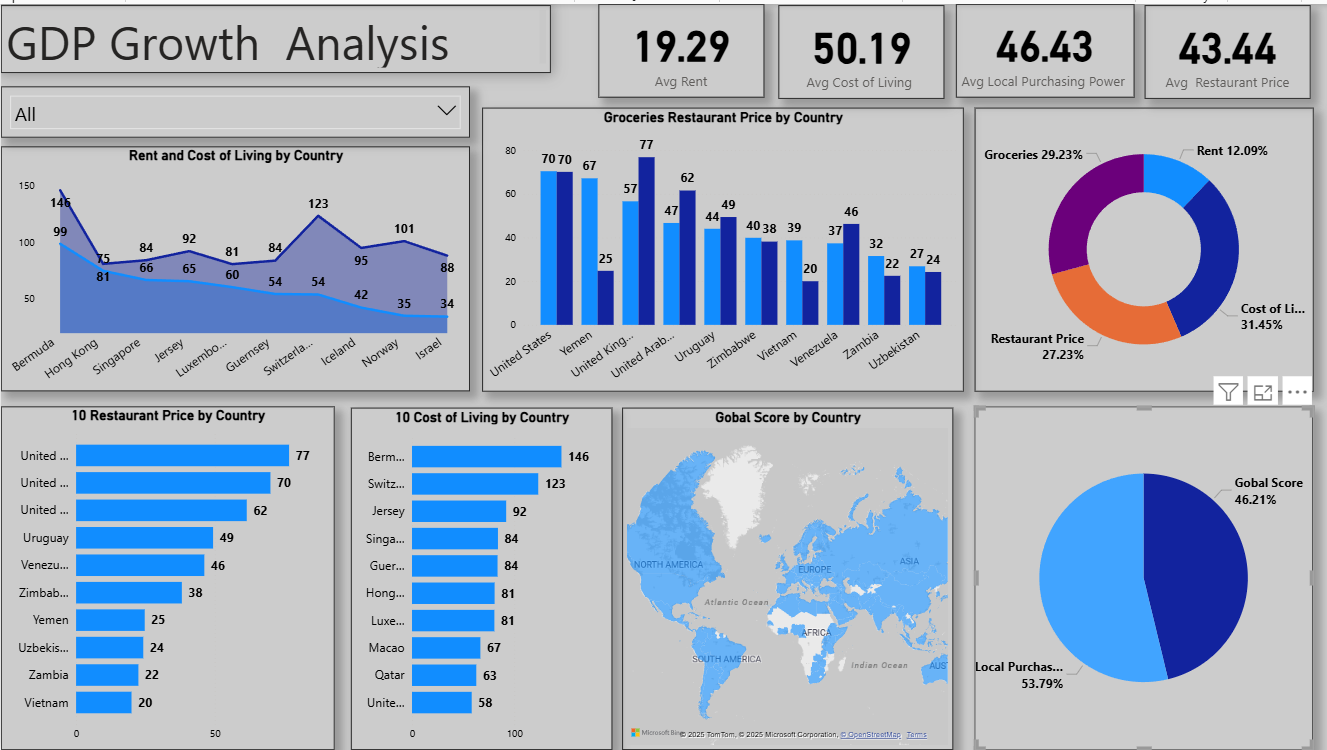

What the dashboard file says about the page in this screenshot:
{"tool":"powerbi","page":{"name":"Page 1","canvas":[1600,900],"ordinal":0},"visuals":[{"type":"barChart","title":"10 Restaurant Price by Country","fields":{"Category":["Cost_of_Living_Index_2022.Country"],"Y":["Sum(Cost_of_Living_Index_2022.Restaurant Price Index)"]},"box":[0,486.1,402,414.2],"z":0},{"type":"areaChart","title":"Rent and Cost of Living by Country","fields":{"Y":["Sum(Cost_of_Living_Index_2022.Rent Index)","Sum(Cost_of_Living_Index_2022.Cost of Living Index)"],"Category":["Cost_of_Living_Index_2022.Country"]},"box":[0,171.9,565.5,295.6],"z":1000},{"type":"clusteredColumnChart","title":"Groceries   Restaurant Price  by Country","fields":{"Y":["Avg(Cost_of_Living_Index_2022.Groceries Index)","Avg(Cost_of_Living_Index_2022.Restaurant Price Index)"],"Category":["Cost_of_Living_Index_2022.Country"]},"box":[580.6,125.2,580.6,342.3],"z":2000},{"type":"barChart","title":"10 Cost of Living by Country","fields":{"Category":["Cost_of_Living_Index_2022.Country"],"Y":["Sum(Cost_of_Living_Index_2022.Cost of Living Index)"]},"box":[421.9,487.6,314.9,412.7],"z":3000},{"type":"donutChart","fields":{"Y":["Sum(Cost_of_Living_Index_2022.Rent Index)","Sum(Cost_of_Living_Index_2022.Cost of Living Index)","Sum(Cost_of_Living_Index_2022.Restaurant Price Index)","Sum(Cost_of_Living_Index_2022.Groceries Index)"]},"box":[1174.8,125.2,408.7,342.3],"z":4000},{"type":"pieChart","fields":{"Y":["Sum(Cost_of_Living_Index_2022.Gobal Score)","Sum(Cost_of_Living_Index_2022.Local Purchasing Power Index)"]},"box":[1175.4,486.1,408.1,414.2],"z":5000},{"type":"filledMap","title":"Gobal Score by Country","fields":{"Category":["Cost_of_Living_Index_2022.Country"]},"box":[749,487.6,398.9,412.7],"z":6000},{"type":"card","fields":{"Values":["Avg(Cost_of_Living_Index_2022.Rent Index)"]},"box":[721.5,0,200.2,113.1],"z":7000},{"type":"card","fields":{"Values":["Avg(Cost_of_Living_Index_2022.Cost of Living Index)"]},"box":[938.5,1.5,200.2,113.1],"z":8000},{"type":"card","fields":{"Values":["Avg(Cost_of_Living_Index_2022.Local Purchasing Power Index)"]},"box":[1152.5,0,215.5,113.1],"z":9000},{"type":"card","fields":{"Values":["Avg(Cost_of_Living_Index_2022.Restaurant Price Index)"]},"box":[1380.3,1.5,200.2,113.1],"z":10000},{"type":"textbox","box":[0,1.5,663.5,81.4],"z":11000},{"type":"slicer","fields":{"Values":["Cost_of_Living_Index_2022.Country"]},"box":[0,99.5,565.5,61.8],"z":12000}]}

Visuals, with their boxes in screenshot pixels (x1, y1, x2, y2), scaled from the page's 1600x900 canvas onto the 1327x750 screenshot:
"10 Restaurant Price by Country" barChart: detection(0, 405, 333, 749)
"Rent and Cost of Living by Country" areaChart: detection(0, 143, 469, 390)
"Groceries   Restaurant Price  by Country" clusteredColumnChart: detection(482, 104, 963, 390)
"10 Cost of Living by Country" barChart: detection(350, 406, 611, 749)
donutChart - Sum(Cost_of_Living_Index_2022.Rent Index) x Sum(Cost_of_Living_Index_2022.Cost of Living Index): detection(974, 104, 1313, 390)
pieChart - Sum(Cost_of_Living_Index_2022.Gobal Score) x Sum(Cost_of_Living_Index_2022.Local Purchasing Power Index): detection(975, 405, 1313, 749)
"Gobal Score by Country" filledMap: detection(621, 406, 952, 749)
card - Avg(Cost_of_Living_Index_2022.Rent Index): detection(598, 0, 764, 94)
card - Avg(Cost_of_Living_Index_2022.Cost of Living Index): detection(778, 1, 944, 96)
card - Avg(Cost_of_Living_Index_2022.Local Purchasing Power Index): detection(956, 0, 1135, 94)
card - Avg(Cost_of_Living_Index_2022.Restaurant Price Index): detection(1145, 1, 1311, 96)
textbox: detection(0, 1, 550, 69)
slicer - Cost_of_Living_Index_2022.Country: detection(0, 83, 469, 134)
